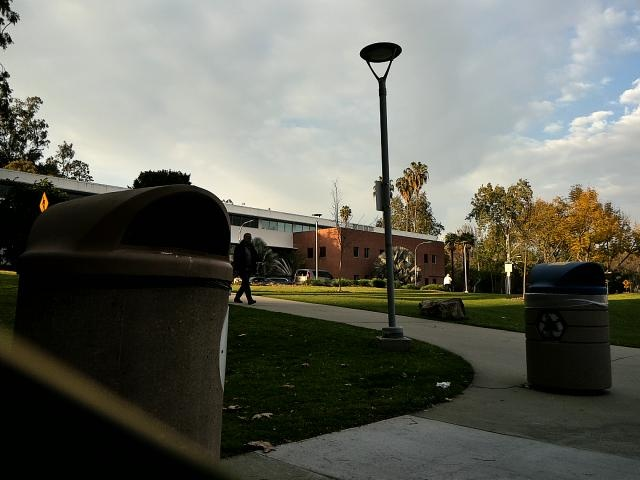trashcan: (23, 185, 238, 467), (519, 256, 624, 411)
